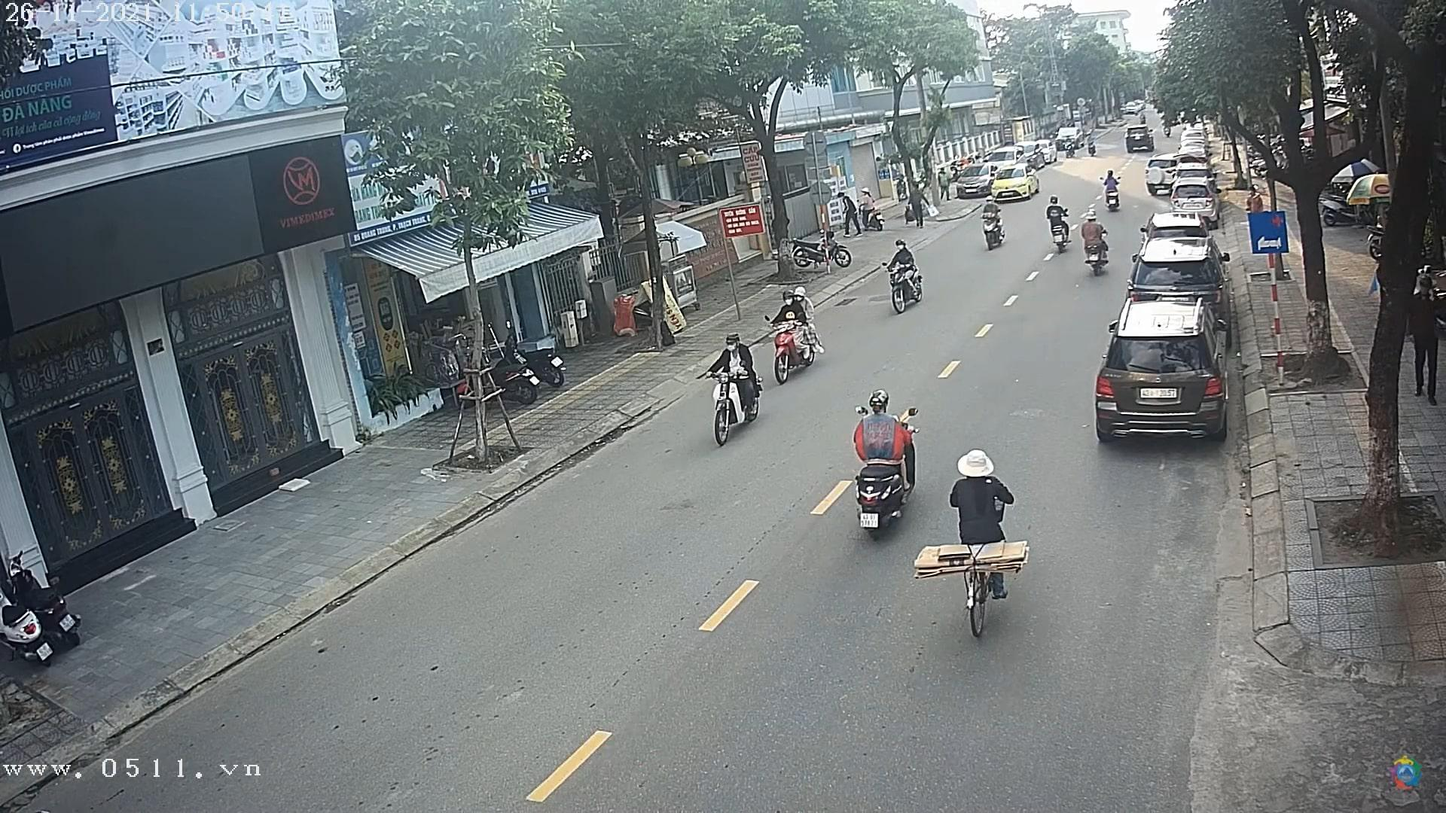car: (1097, 314, 1227, 442), (1127, 242, 1229, 302), (1137, 229, 1214, 266), (988, 165, 1039, 202), (1143, 157, 1182, 197), (1127, 125, 1159, 151)
motorbike: (852, 446, 920, 539), (705, 360, 768, 446), (769, 317, 824, 388), (882, 262, 926, 310), (980, 219, 1006, 251)
